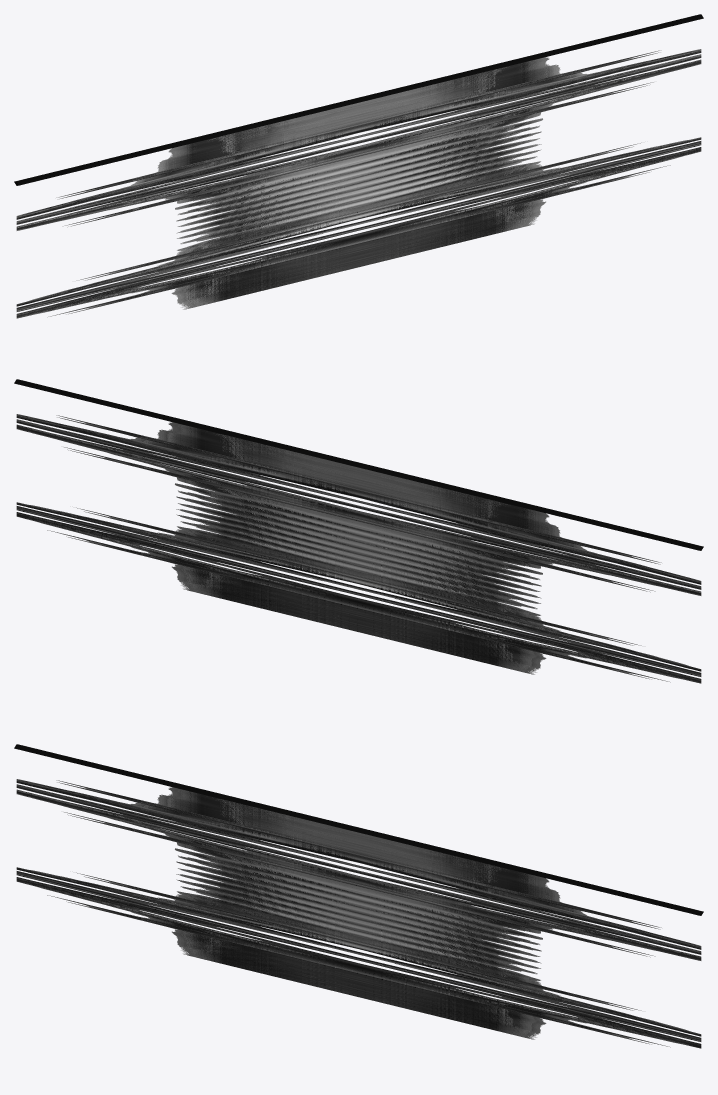
Rendered from balustrade.fbx.
The picture shows the model from 3 angles, top to bottom: view 1: azimuth 30°, elevation 25°; view 2: azimuth 150°, elevation 25°; view 3: azimuth 330°, elevation 25°; orthographic projection.
Visible parts, largest first — view 1: balustrade, balustrade_corner_R, balustrade_corner_L, balustrade_double_corner; view 2: balustrade_double_corner, balustrade_corner_R, balustrade, balustrade_corner_L; view 3: balustrade_double_corner, balustrade_corner_L, balustrade_corner_R, balustrade.
Part boxes in pixels (x1,y1,x2,y2): balustrade: (14, 14, 703, 318); balustrade_corner_R: (15, 17, 689, 317); balustrade_corner_L: (27, 15, 701, 314); balustrade_double_corner: (28, 22, 689, 314); balustrade_double_corner: (28, 387, 690, 680); balustrade_corner_R: (26, 384, 702, 682); balustrade: (14, 379, 703, 683); balustrade_corner_L: (14, 379, 691, 680); balustrade_double_corner: (28, 747, 690, 1045); balustrade_corner_L: (28, 750, 701, 1047); balustrade_corner_R: (15, 744, 689, 1045); balustrade: (14, 744, 703, 1048).
Bounding box in the file's own units: 300 × 71 × 4.
